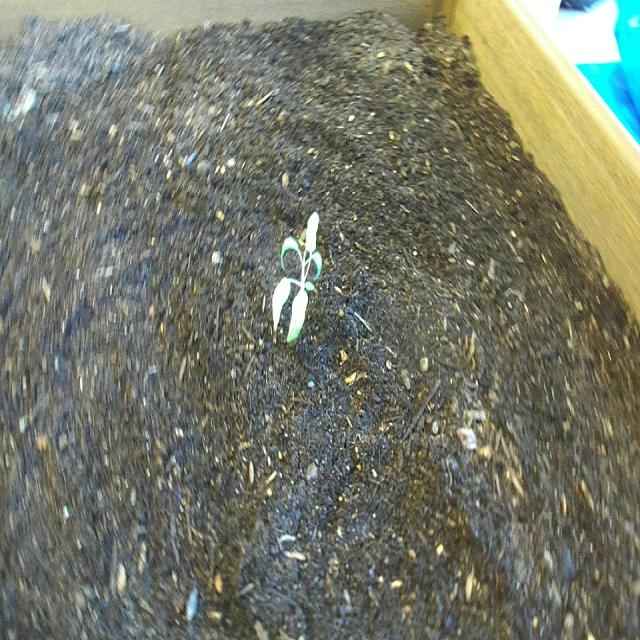Healthy: (270, 206, 326, 354)
